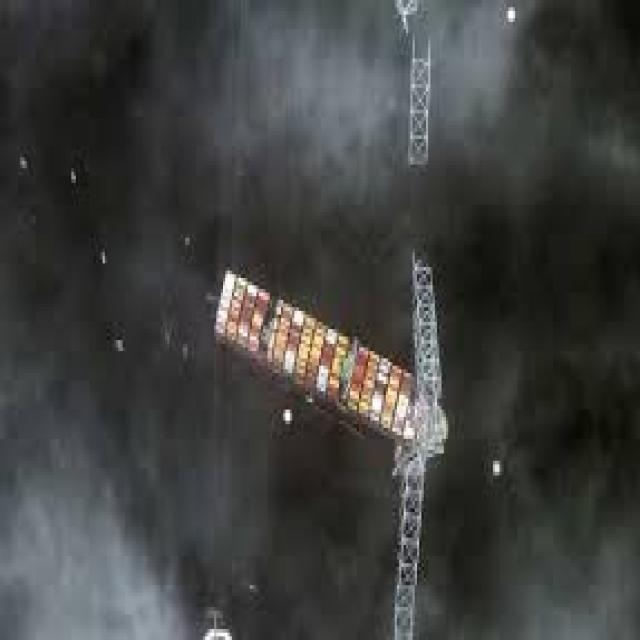bridge collapse: (356, 32, 537, 440)
